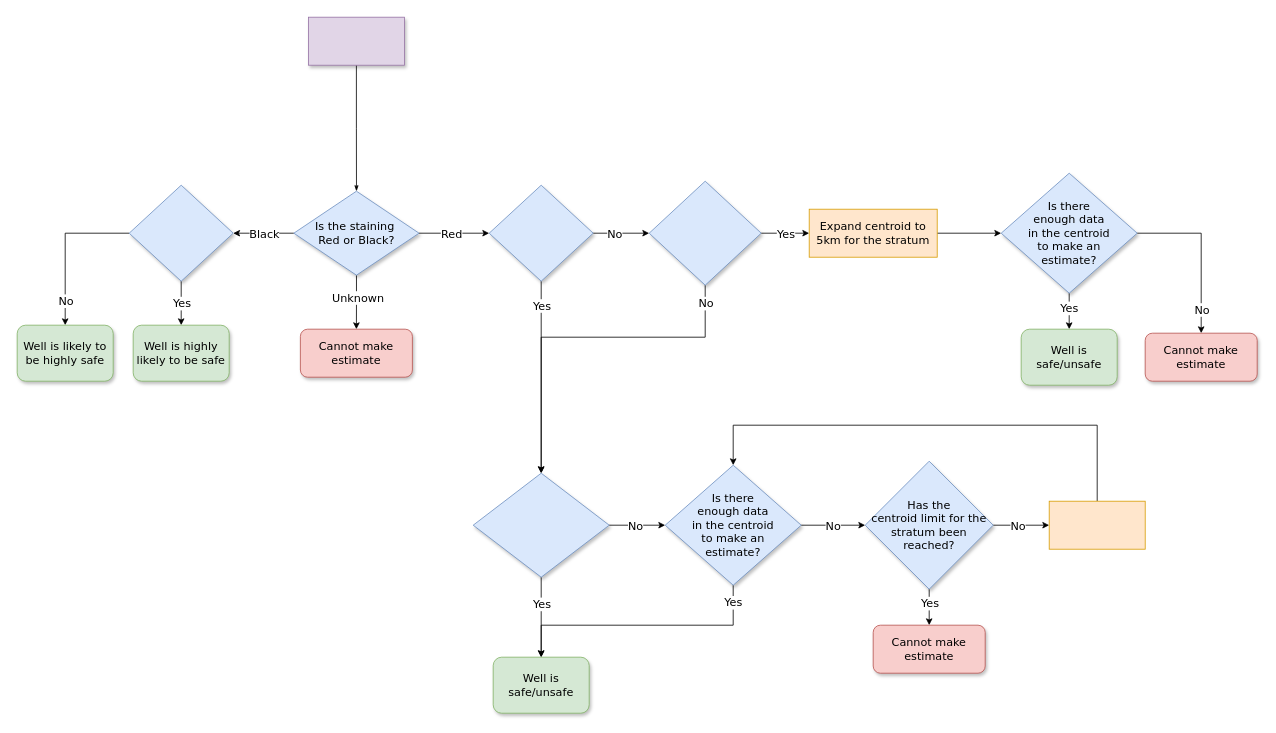
The diagram is 1276 pixels wide and 733 high, and some of its shapes have lost their labels. The shapes that lost their labels are listed below. From the top down, each one's centre as x and y in pixels, then its label:
pixel 356 42: Is the well Arsenic safe?
pixel 181 234: Is the well >150m deep?
pixel 541 234: Is the well >15m deep?
pixel 705 234: Has the well been flooded?
pixel 541 526: Is there enough data to make an estimate?
pixel 1096 524: Expand the centroid
